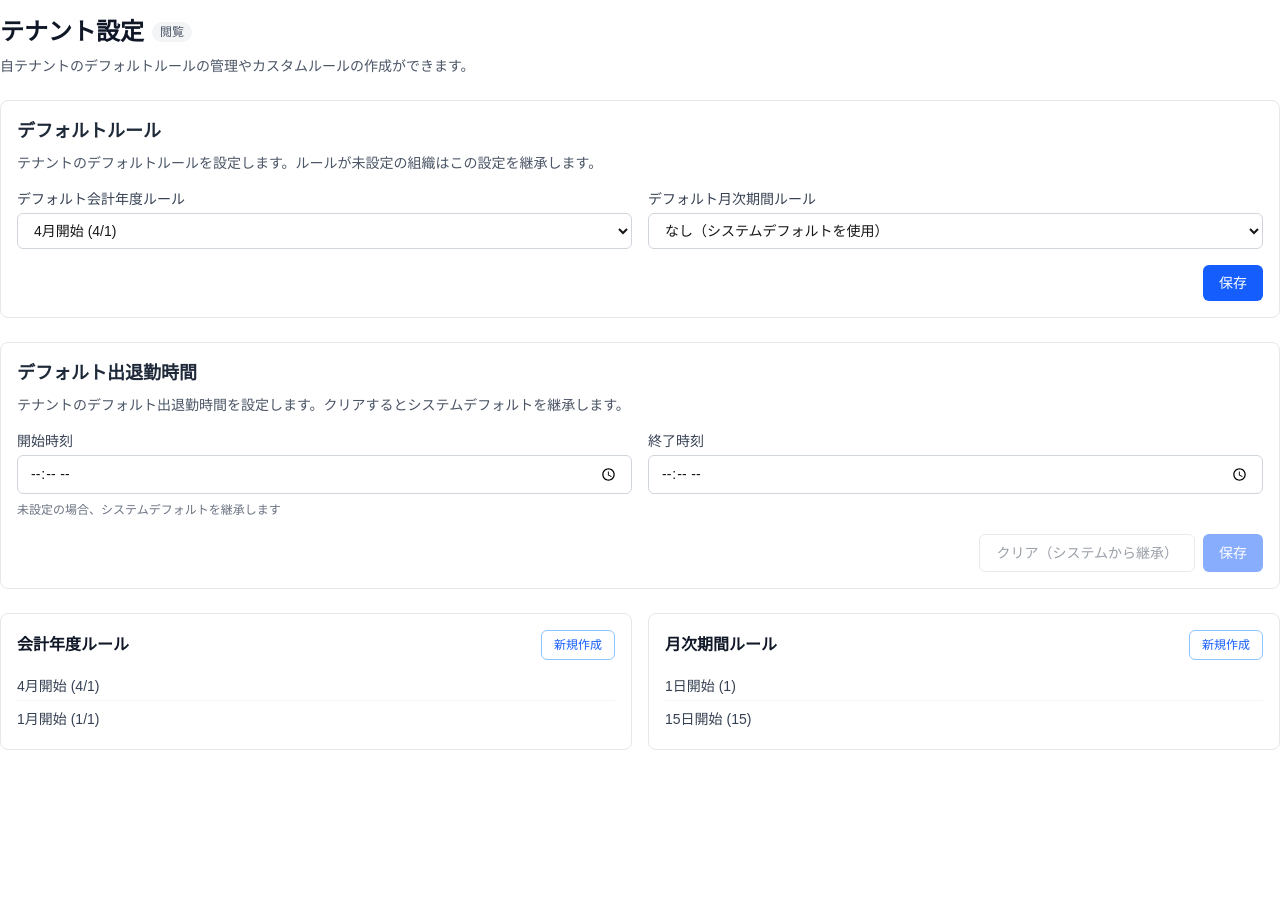
Test: TenantSettingsSection › should open fiscal year pattern form on create button click
Expected: the heading "テナント設定" is shown, 0,16 -> 144,48
Click the 1st button "新規作成": (578, 645) 541,630 -> 615,660
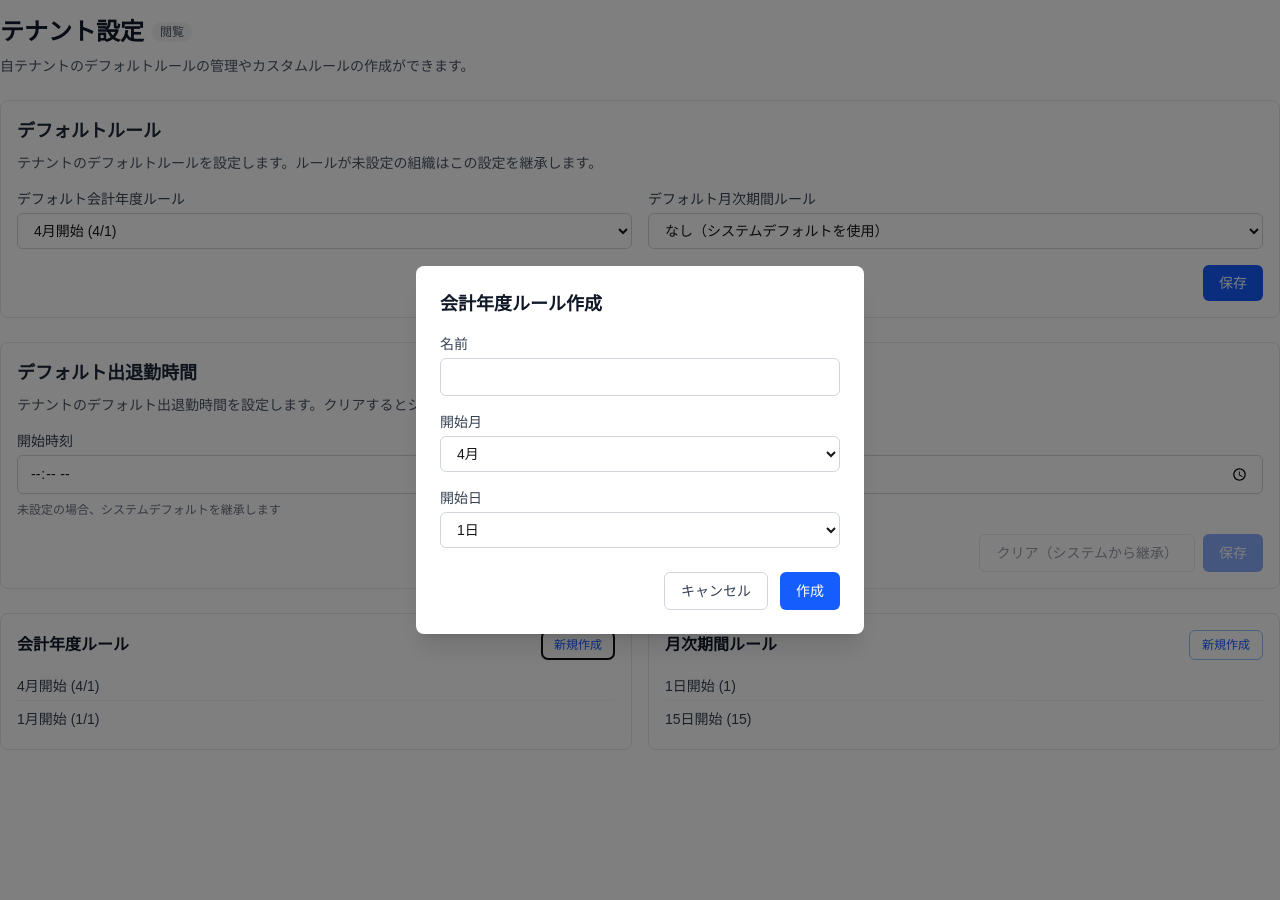
Now the field labelled "名前" is shown, box 440,358 -> 840,396
